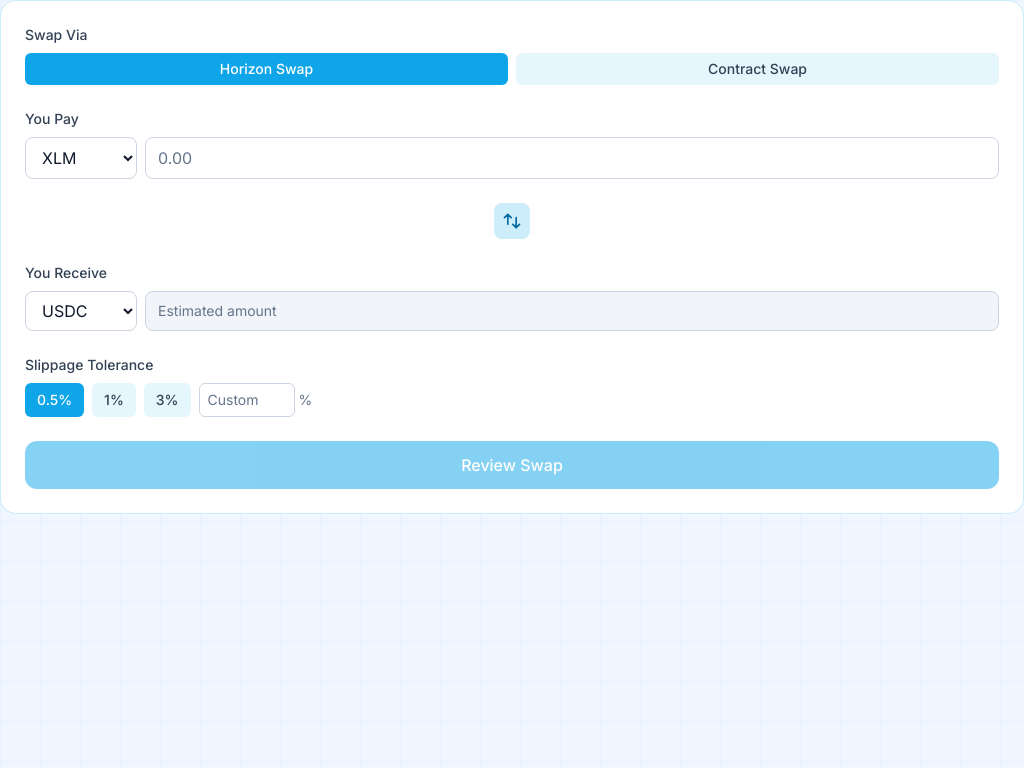
Test: Token selection › swap-direction button flips pay and receive tokens
Expected: the dropdown named "Pay token" shows "XLM", [25,137,137,179]
Expected: the dropdown named "Receive token" shows "USDC", [25,291,137,331]
Click the button named "Swap assets". click: x=512, y=221
box: [494,203,530,239]
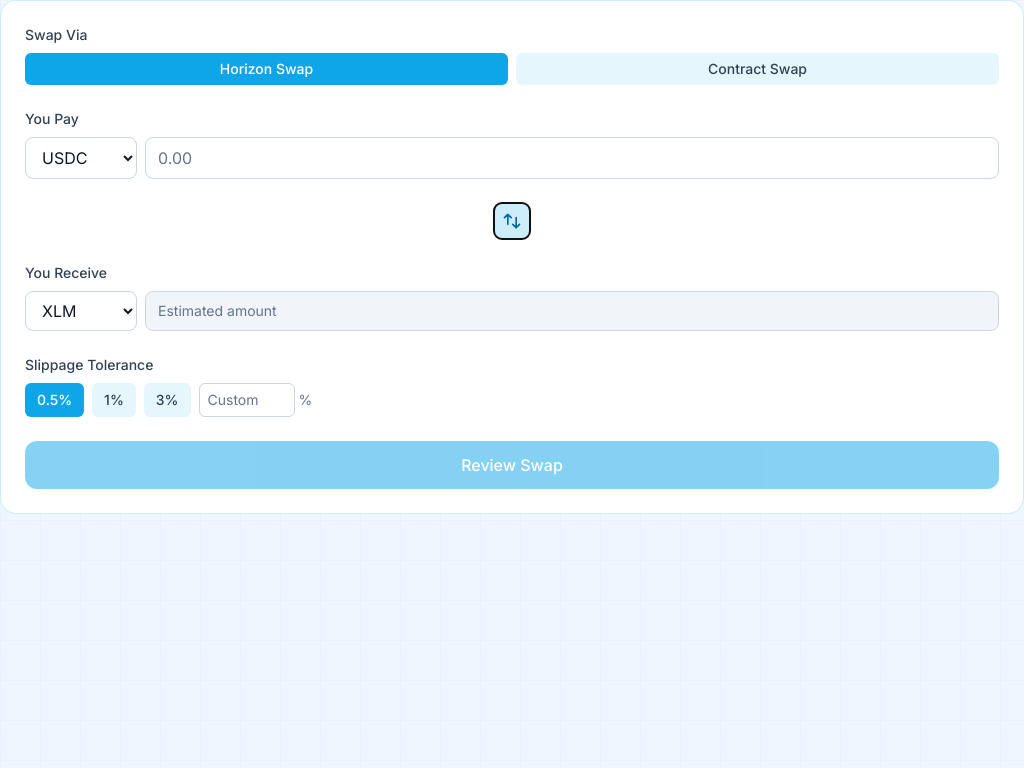
Now the dropdown named "Pay token" shows "USDC", box [25,137,137,179]
Now the dropdown named "Receive token" shows "XLM", box [25,291,137,331]
